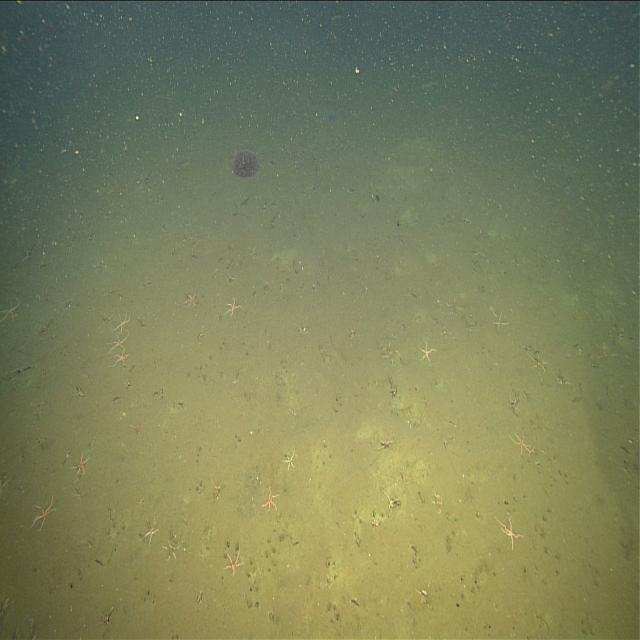Brittle Star: (492, 511, 525, 551), (31, 494, 57, 530), (223, 543, 245, 576), (508, 426, 531, 457), (0, 295, 23, 324), (142, 515, 160, 548), (416, 338, 436, 366), (263, 483, 280, 514), (112, 308, 131, 334), (72, 450, 88, 477), (111, 347, 130, 368), (225, 296, 243, 318), (282, 448, 297, 471), (183, 290, 199, 310)
